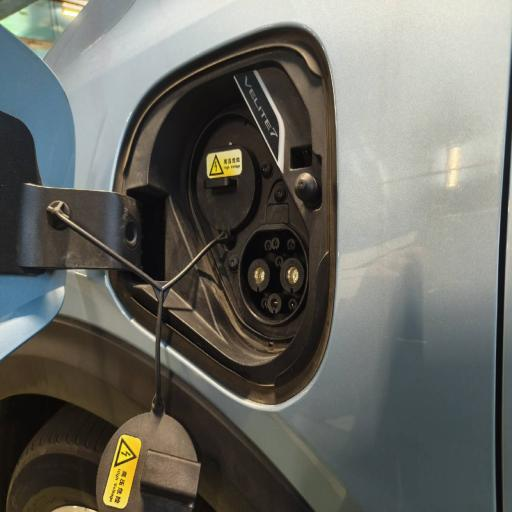DC_charging_port: (237, 222, 310, 327)
DC_hole: (278, 256, 306, 294), (247, 258, 271, 294)
PE: (266, 293, 283, 315)
